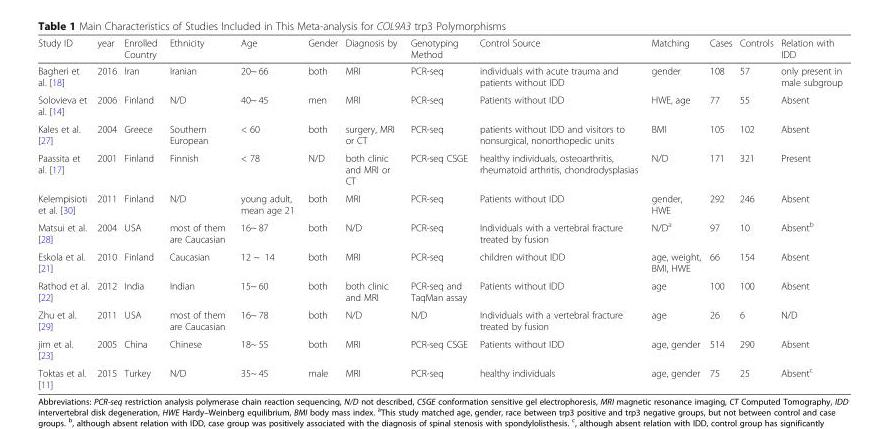table: (38, 36, 842, 389)
table column: (473, 36, 645, 389), (163, 36, 233, 389), (404, 36, 473, 389), (233, 36, 301, 389), (777, 36, 842, 389), (341, 36, 404, 389), (645, 36, 705, 389), (38, 36, 93, 389), (120, 36, 163, 389), (736, 36, 777, 389), (301, 36, 341, 389), (705, 36, 736, 389), (93, 36, 120, 389)
table column header: (38, 36, 842, 62)
table row: (38, 148, 842, 189), (38, 217, 842, 247), (38, 90, 842, 119), (38, 119, 842, 148), (38, 247, 842, 276), (38, 276, 842, 305), (38, 305, 842, 334), (38, 334, 842, 363), (38, 62, 842, 90), (38, 189, 842, 217), (38, 36, 842, 62), (38, 363, 842, 389)
